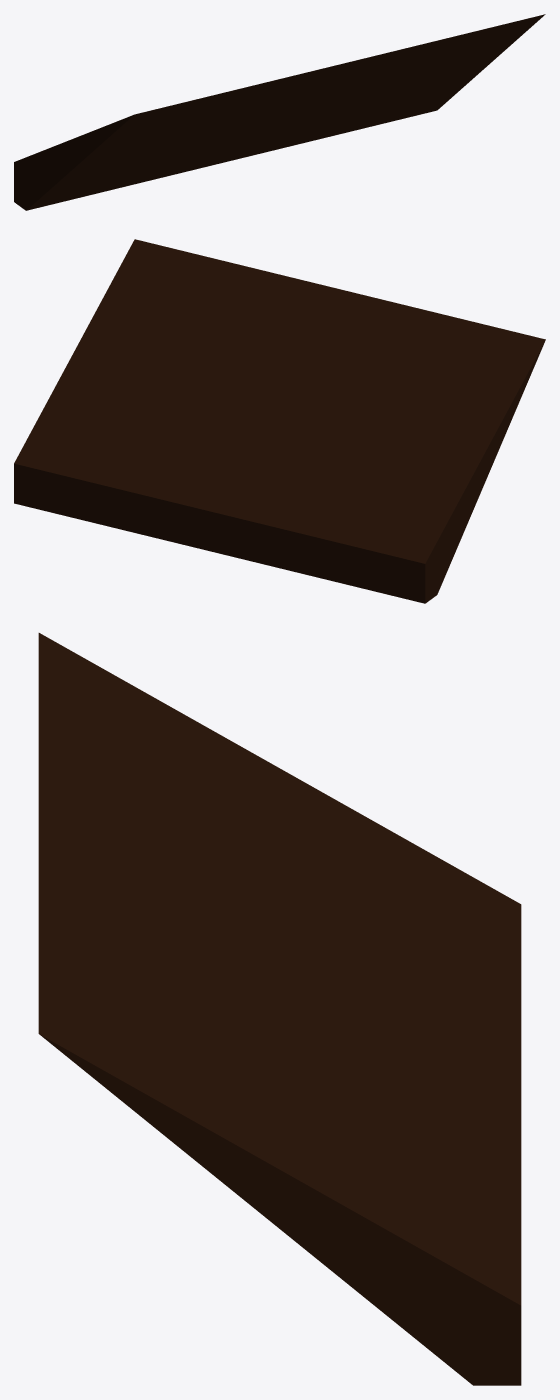
File: Roof2Small.FBX
3 renders of one model, top to bottom at view 1: azimuth 30°, elevation 25°; view 2: azimuth 150°, elevation 25°; view 3: azimuth 270°, elevation 25°, orthographic. The views are drawn at different scales.
Parts seen in each view (by area): view 1: RoofSmallPerfectFit; view 2: RoofSmallPerfectFit; view 3: RoofSmallPerfectFit.
Boxes of the visible parts, x1,y1,x2,y2 form: RoofSmallPerfectFit: (14,14,545,210); RoofSmallPerfectFit: (14,239,545,603); RoofSmallPerfectFit: (38,633,521,1385).
Bounding box in the file's own units: 2.95 × 1.21 × 1.5.
